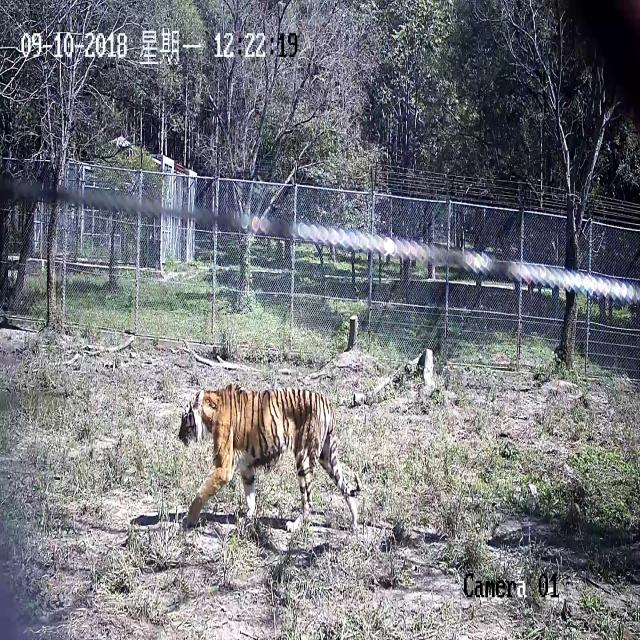Tiger: (153, 361, 380, 550)
